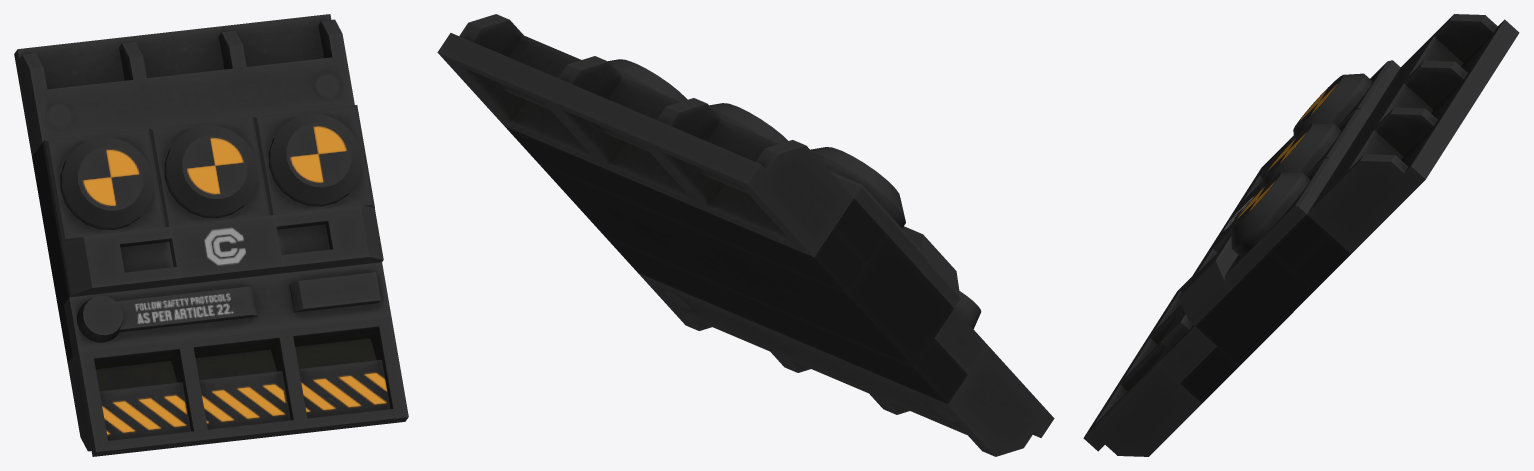
The model's file is scifi_panel.glb.
3 renders of one model, left to right at view 1: azimuth 30°, elevation 25°; view 2: azimuth 150°, elevation 25°; view 3: azimuth 270°, elevation 25°, orthographic. The views are drawn at different scales.
Parts seen in each view (by area): view 1: Object_2; view 2: Object_2; view 3: Object_2.
Part boxes in pixels (left/top/right/bottom): Object_2: left=14, top=14, right=408, bottom=456; Object_2: left=437, top=14, right=1054, bottom=456; Object_2: left=1083, top=14, right=1519, bottom=456.
Bounding box in the file's own units: 36.67 × 29.93 × 36.37.
Materials: 1 (1 with a texture image).
